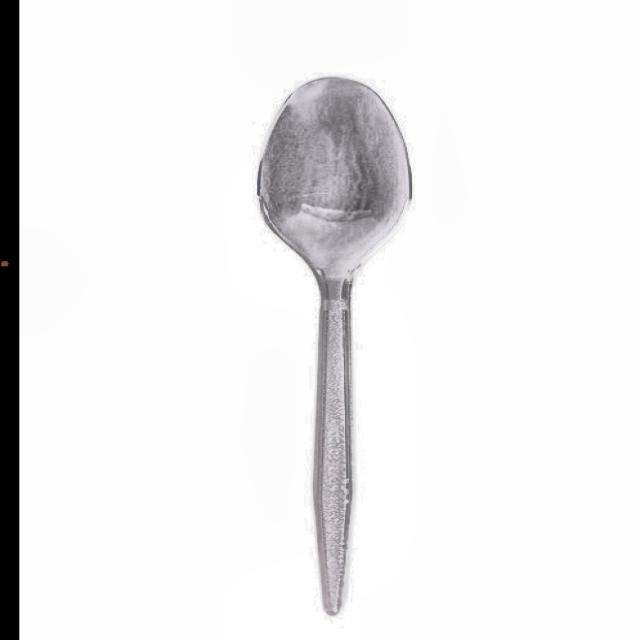plastic utensil: (261, 79, 414, 613)
